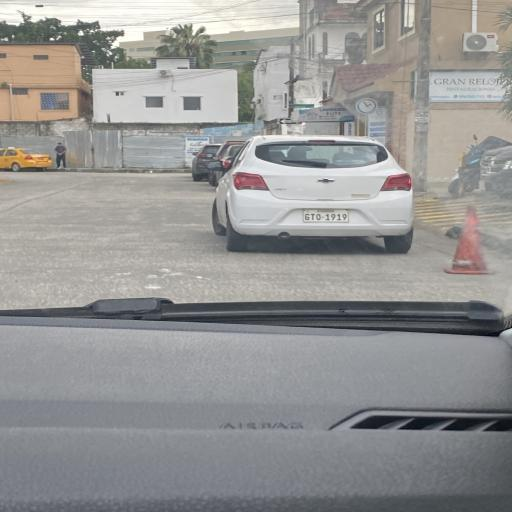license_plate: (304, 212, 311, 222), (330, 214, 336, 222), (342, 214, 348, 221), (315, 214, 321, 220), (336, 214, 342, 220), (325, 214, 330, 221), (311, 214, 315, 220)
